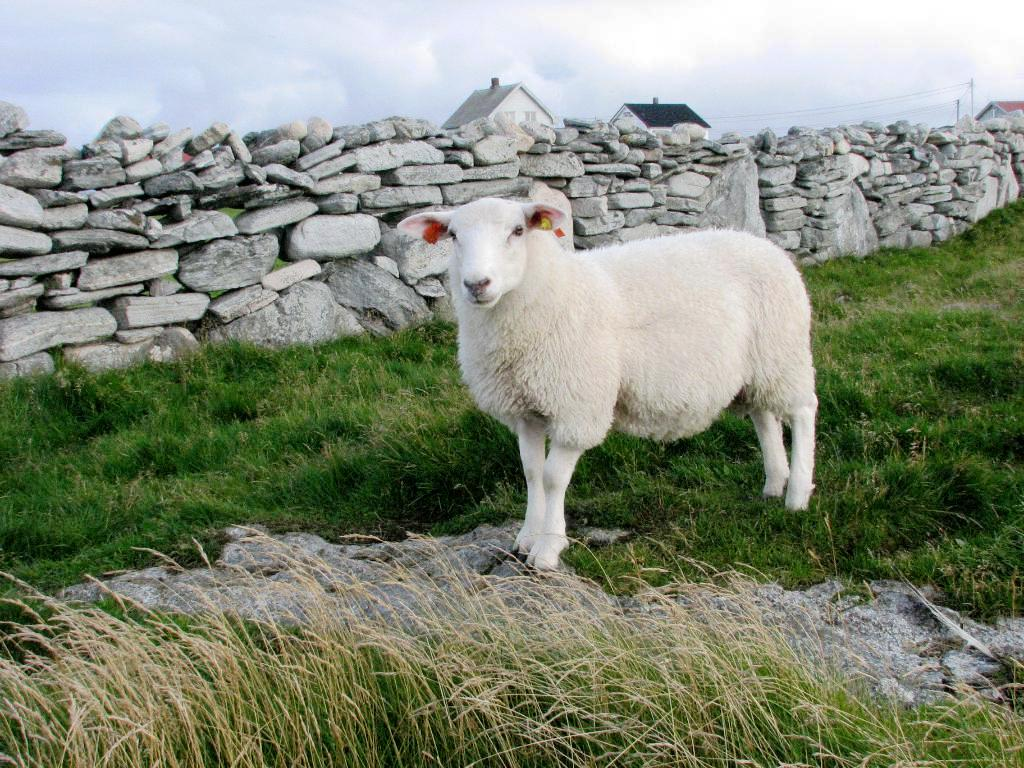Sheep: (392, 196, 818, 570)
